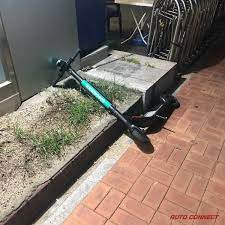fallin_kick: (54, 49, 180, 148)
